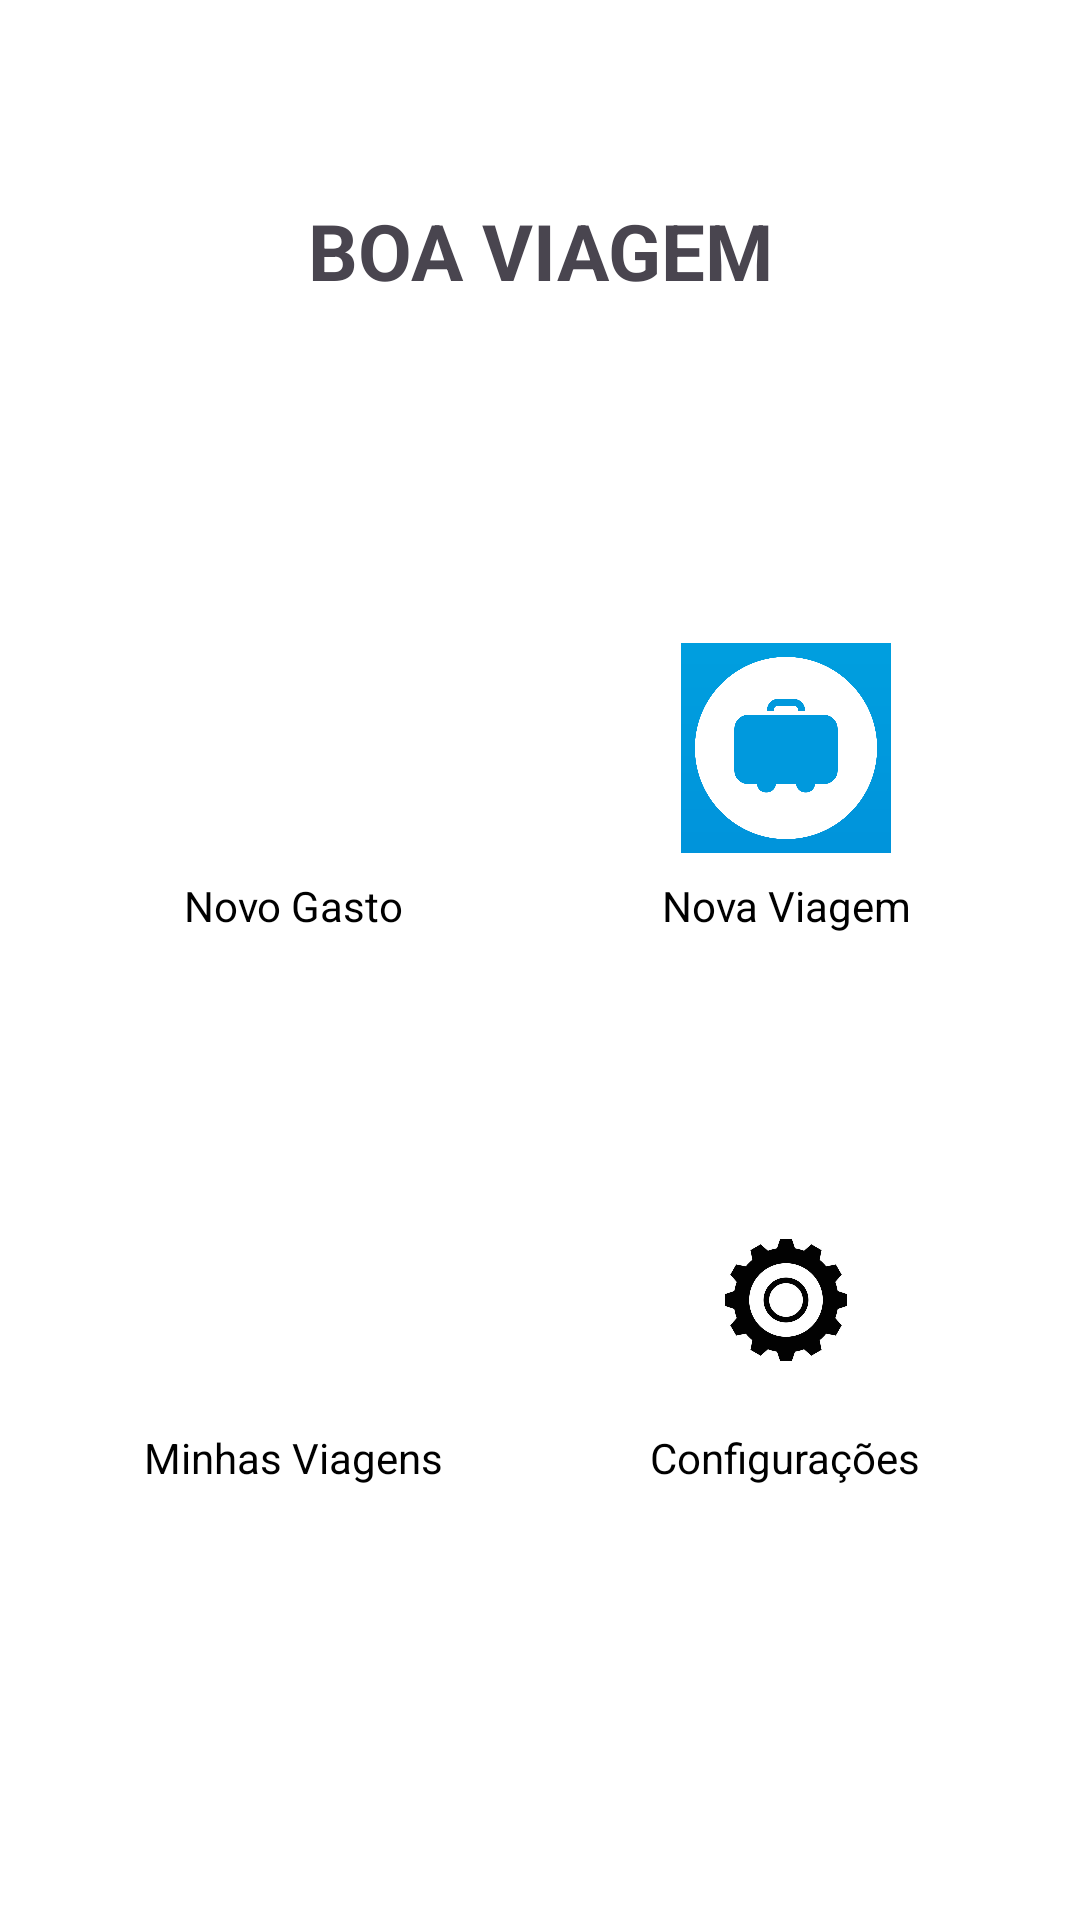

Screen size 1080px×1920px. Icon name, then its box in pixels as (x1, y1, x2, y2):
engrenagem: (725, 1239, 847, 1361)
